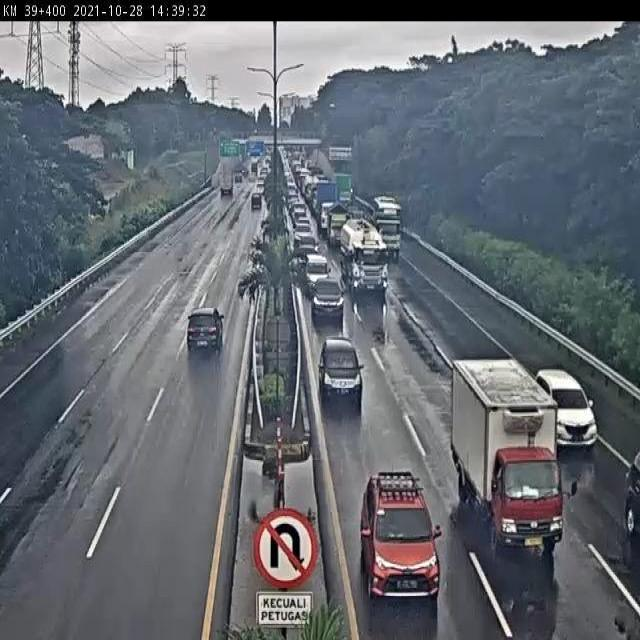big truck: (334, 216, 388, 304)
car: (354, 458, 450, 614), (513, 351, 588, 445), (596, 398, 640, 546), (313, 316, 371, 407), (168, 312, 231, 387), (302, 278, 353, 330), (300, 245, 337, 292), (242, 192, 266, 217)
small truck: (431, 331, 544, 528), (369, 207, 399, 257), (209, 168, 239, 203)
